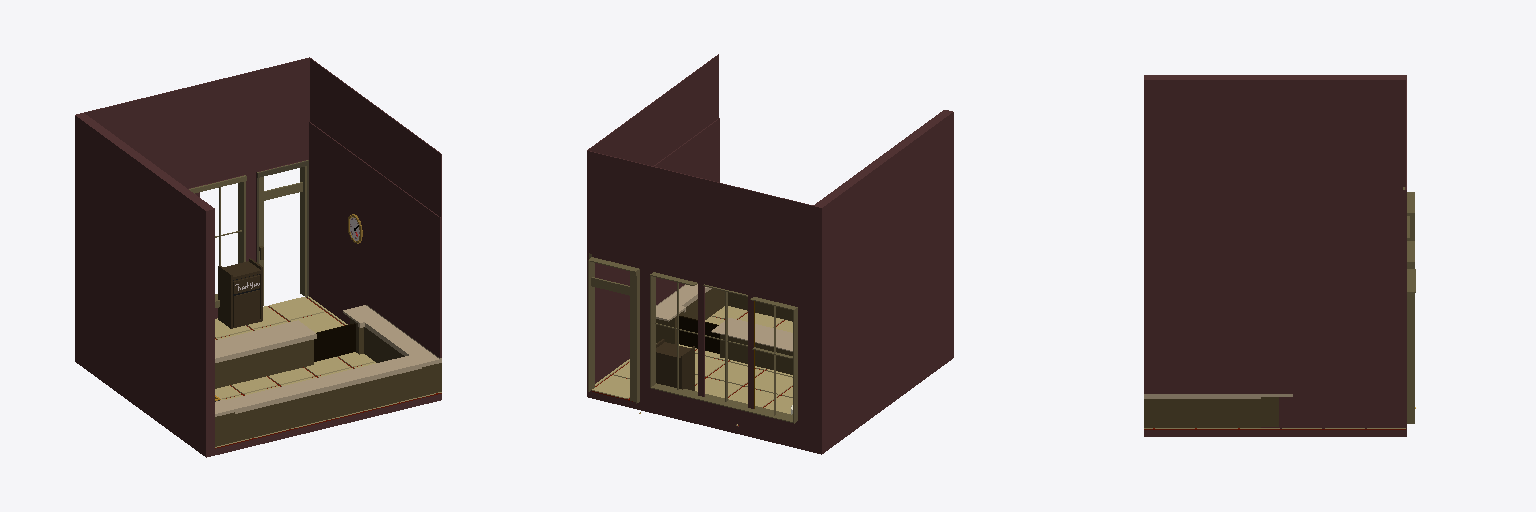
The picture shows the model from 3 angles: view 1: azimuth 30°, elevation 25°; view 2: azimuth 150°, elevation 25°; view 3: azimuth 270°, elevation 25°; orthographic projection.
Visible parts, largest first — view 1: object 1; view 2: object 1; view 3: object 1.
Boxes of the visible parts, x1=… form: object 1: x1=75, y1=57, x2=441, y2=457; object 1: x1=587, y1=54, x2=953, y2=454; object 1: x1=1144, y1=75, x2=1415, y2=436.
Bounding box in the file's own units: 25.6 × 25.6 × 25.6.
1 materials, 1 textured.